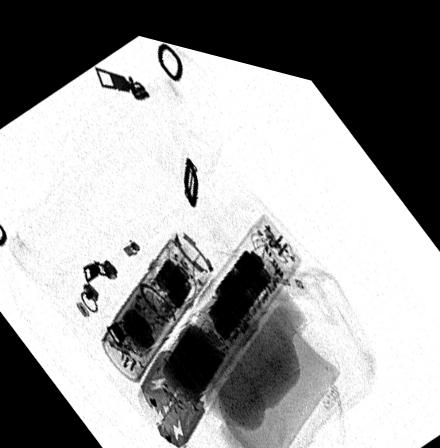Baton: (135, 196, 303, 441), (98, 220, 213, 376)
